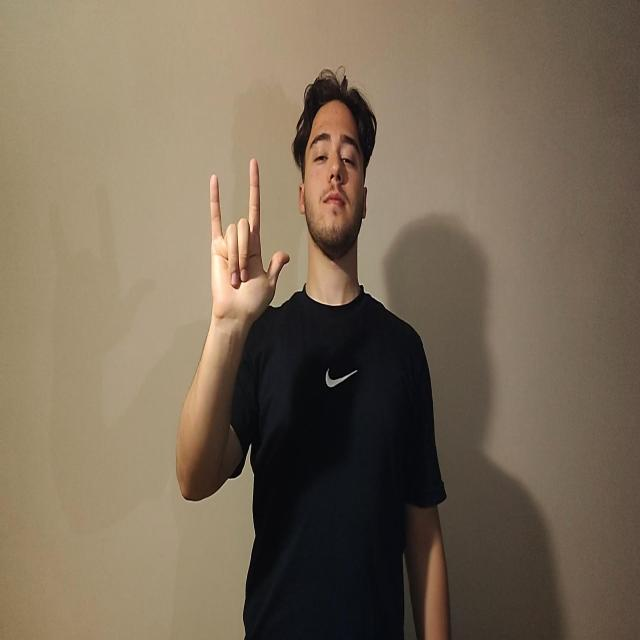iloveyou: (209, 157, 290, 330)
